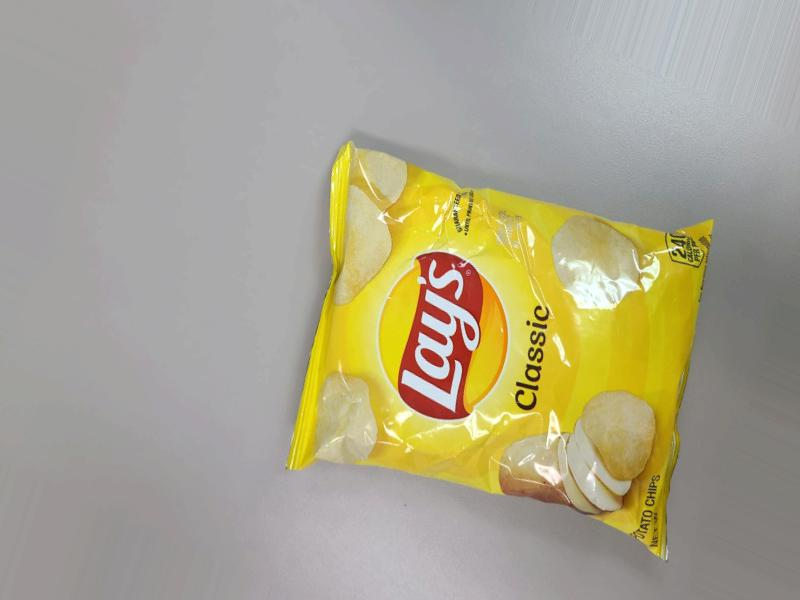lays: (324, 161, 695, 600)
